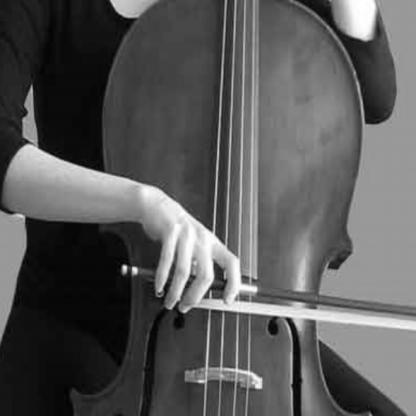good: (135, 167, 251, 328)
